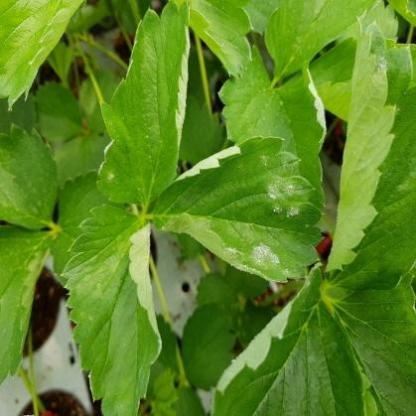Strawberry_Powdery_Mildew_Leaf: (209, 262, 380, 416), (149, 136, 326, 284), (324, 16, 416, 292), (58, 204, 162, 415), (95, 0, 191, 206), (216, 43, 327, 209)
